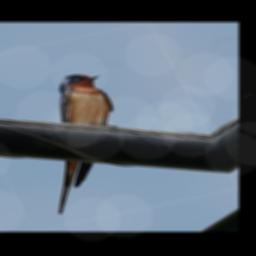Swallow: (0, 68, 162, 215)
